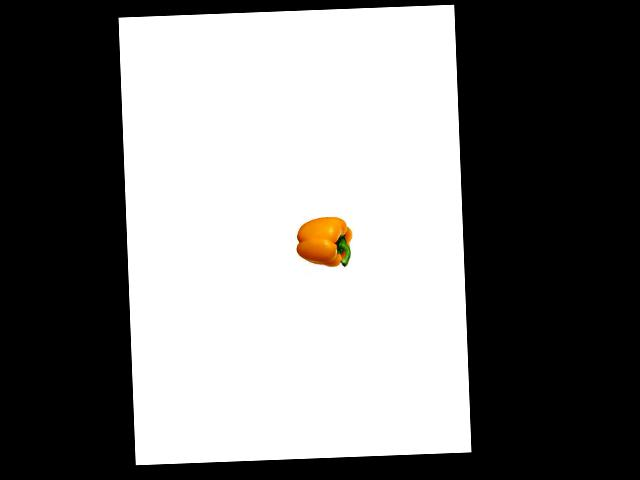bell_pepper: (293, 211, 358, 273)
